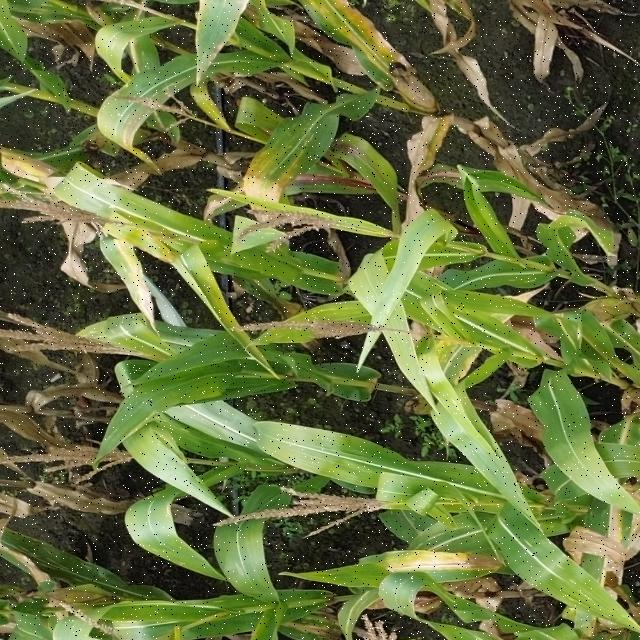gray-leaf-spot: (14, 524, 167, 609), (436, 260, 552, 313)
northern-leaf-blight: (218, 98, 362, 232), (98, 49, 206, 169), (84, 217, 171, 338), (355, 544, 502, 587)
southern-leaf-blight: (277, 297, 377, 351)
